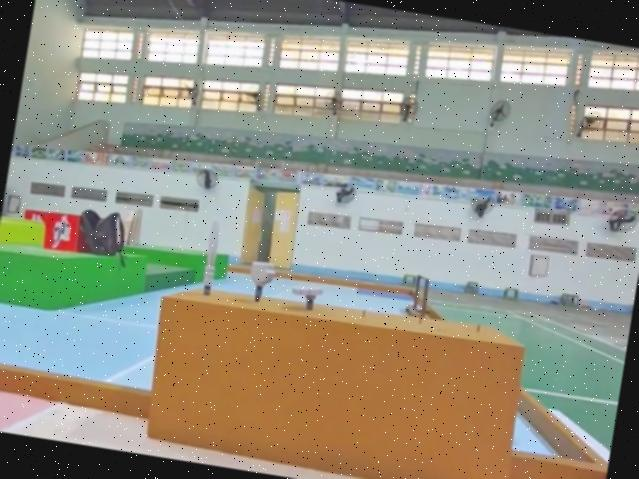Fist: (245, 259, 275, 303)
Hand: (284, 277, 328, 315)
Sph: (191, 217, 225, 296)
